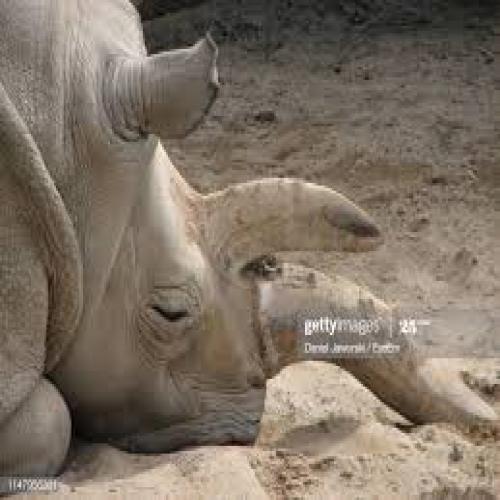rhino-endangered: (6, 7, 494, 476)
